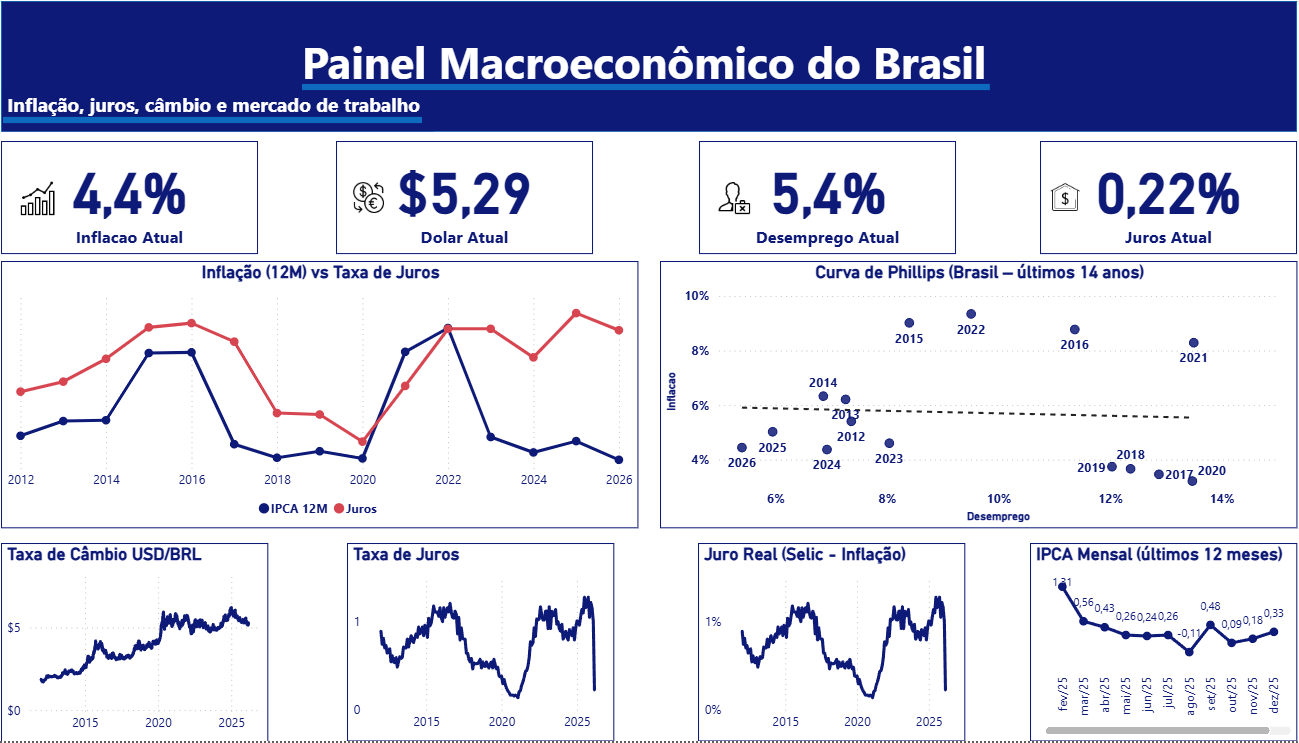

This screenshot's page, from the dashboard's own definition file:
{"tool":"powerbi","page":{"name":"Página 1","canvas":[1280,720],"ordinal":0},"visuals":[{"type":"card","fields":{"Values":["IPCA (2).Inflacao Atual"]},"box":[9.7,136.2,250,109.9],"z":0},{"type":"card","fields":{"Values":["Juros.Juros Atual"]},"box":[1020.3,136.2,250,109.9],"z":1000},{"type":"card","fields":{"Values":["Dolar.Dolar Atual"]},"box":[335.6,136.2,250,109.9],"z":2000},{"type":"card","fields":{"Values":["Desemprego.Desemprego Atual"]},"box":[688.6,136.2,250,109.9],"z":3000},{"type":"shape","box":[9.7,0,1260.5,127.4],"z":4000},{"type":"lineChart","title":"Taxa de Câmbio USD/BRL","fields":{"Category":["Dolar.Data"],"Y":["Avg(Dolar.Dolar)"]},"box":[9.7,527.2,259.7,193.6],"z":5000},{"type":"lineChart","title":"Inflação (12M) vs Taxa de Juros","fields":{"Y":["Max(IPCA (2).IPCA_12M)"],"Y2":["Max(Juros.Juros)"],"Category":["Calendario.Ano"]},"box":[9.7,252.9,620,259.7],"z":6000},{"type":"textbox","box":[220.8,13.6,828.7,91.4],"z":7000},{"type":"lineChart","title":"Taxa de Juros","fields":{"Category":["Juros.Data"],"Y":["Avg(Juros.Juros)"]},"box":[346.3,527.2,259.7,192.6],"z":8000},{"type":"textbox","box":[10.7,82.7,420.2,43.8],"z":9000},{"type":"lineChart","title":"IPCA Mensal (últimos 12 meses)","fields":{"Y":["Avg(IPCA (2).IPCA Mensal)"],"Category":["Calendario.MesAnoTexto"]},"box":[1010.6,527.2,259.7,192.6],"z":10000},{"type":"lineChart","title":"Juro Real (Selic - Inflação)","fields":{"Y":["Juros.Juros Atual"],"Category":["Calendario.Date"]},"box":[687.7,527.2,259.7,192.6],"z":11000},{"type":"scatterChart","title":"Curva de Phillips (Brasil – últimos 14 anos)","fields":{"X":["Desemprego.Desemprego"],"Y":["IPCA (2).Inflacao_12M"],"Category":["Calendario.Ano"]},"box":[650.7,252.9,619.6,259.7],"z":12000},{"type":"image","box":[23.3,167.3,43.8,47.7],"z":13000},{"type":"image","box":[699.3,167.3,43.8,46.7],"z":14000},{"type":"image","box":[346.3,171.2,41.8,39.9],"z":15000},{"type":"image","box":[1021.3,167.3,47.7,46.7],"z":16000},{"type":"shape","box":[302.5,40.9,669.2,85.6],"z":17001},{"type":"shape","box":[11.7,72.9,407.5,85.6],"z":17002}]}

Visuals, with their boxes in screenshot pixels (x1, y1, x2, y2), scaled from the page's 1280x720 canvas onto the 1299x743 screenshot:
card - IPCA (2).Inflacao Atual: BBox(10, 141, 264, 254)
card - Juros.Juros Atual: BBox(1035, 141, 1289, 254)
card - Dolar.Dolar Atual: BBox(341, 141, 594, 254)
card - Desemprego.Desemprego Atual: BBox(699, 141, 953, 254)
shape: BBox(10, 0, 1289, 131)
"Taxa de Câmbio USD/BRL" lineChart: BBox(10, 544, 273, 742)
"Inflação (12M) vs Taxa de Juros" lineChart: BBox(10, 261, 639, 529)
textbox: BBox(224, 14, 1065, 108)
"Taxa de Juros" lineChart: BBox(351, 544, 615, 742)
textbox: BBox(11, 85, 437, 131)
"IPCA Mensal (últimos 12 meses)" lineChart: BBox(1026, 544, 1289, 742)
"Juro Real (Selic - Inflação)" lineChart: BBox(698, 544, 961, 742)
"Curva de Phillips (Brasil – últimos 14 anos)" scatterChart: BBox(660, 261, 1289, 529)
image: BBox(24, 173, 68, 222)
image: BBox(710, 173, 754, 221)
image: BBox(351, 177, 394, 218)
image: BBox(1036, 173, 1085, 221)
shape: BBox(307, 42, 986, 131)
shape: BBox(12, 75, 425, 164)
